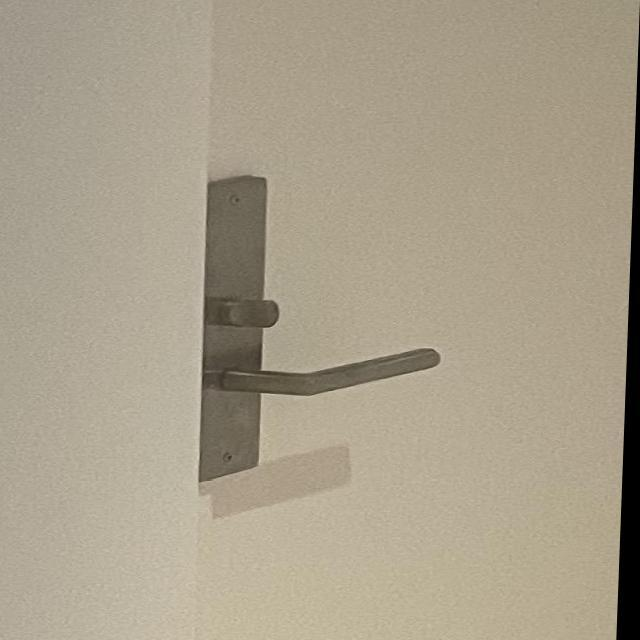door_handle: (198, 329, 456, 414)
